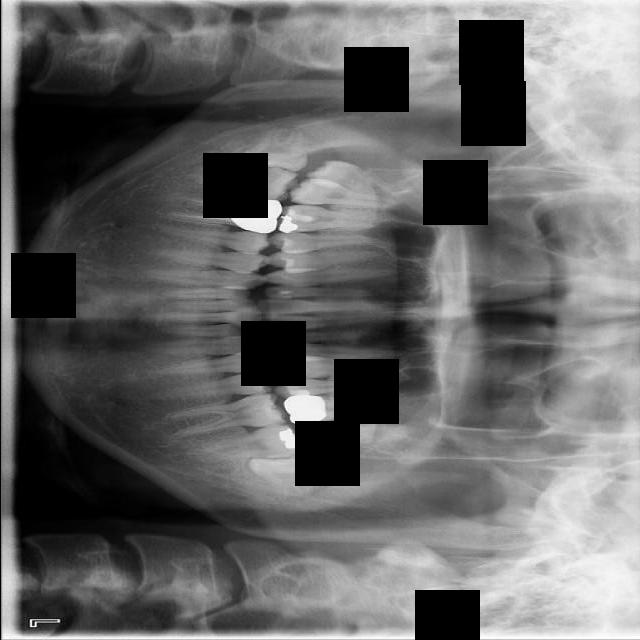3M ESPE Implant: (303, 153, 412, 208)
52: (254, 418, 305, 464), (297, 416, 342, 461), (228, 199, 282, 234), (272, 203, 325, 235), (282, 394, 326, 426), (271, 378, 317, 399), (261, 286, 301, 299)
73: (159, 193, 255, 229), (12, 621, 20, 631)
BioHorizons Implant: (296, 417, 429, 453)
Biomet 3i Implant: (246, 452, 316, 504)
Blue Sky Bio Implant: (189, 421, 307, 464)
Caries: (286, 176, 421, 211)
Implant: (185, 162, 299, 205)
Keystone Dental Implant: (235, 123, 309, 174)
